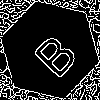B: (25, 25, 80, 81)
